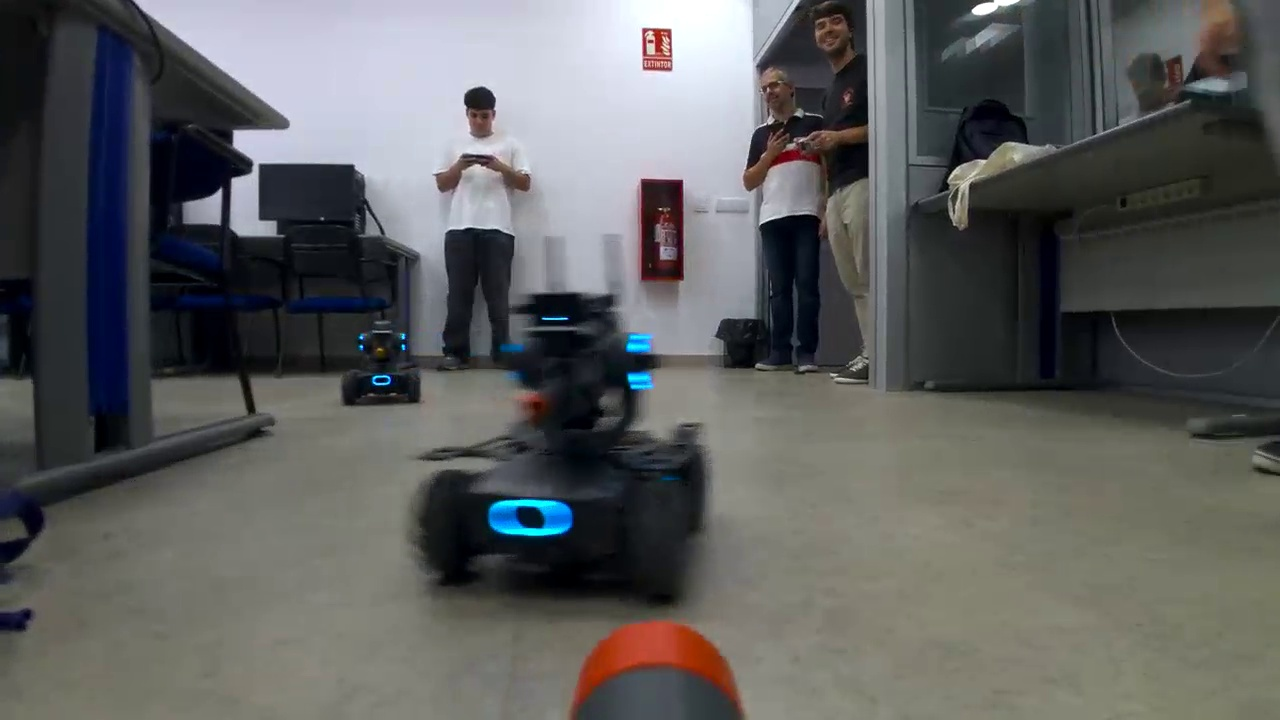robot: (404, 288, 713, 613), (340, 316, 425, 410)
